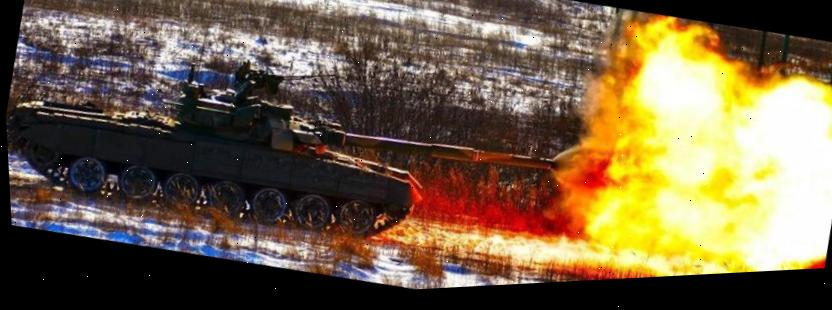tank: (1, 0, 577, 299)
